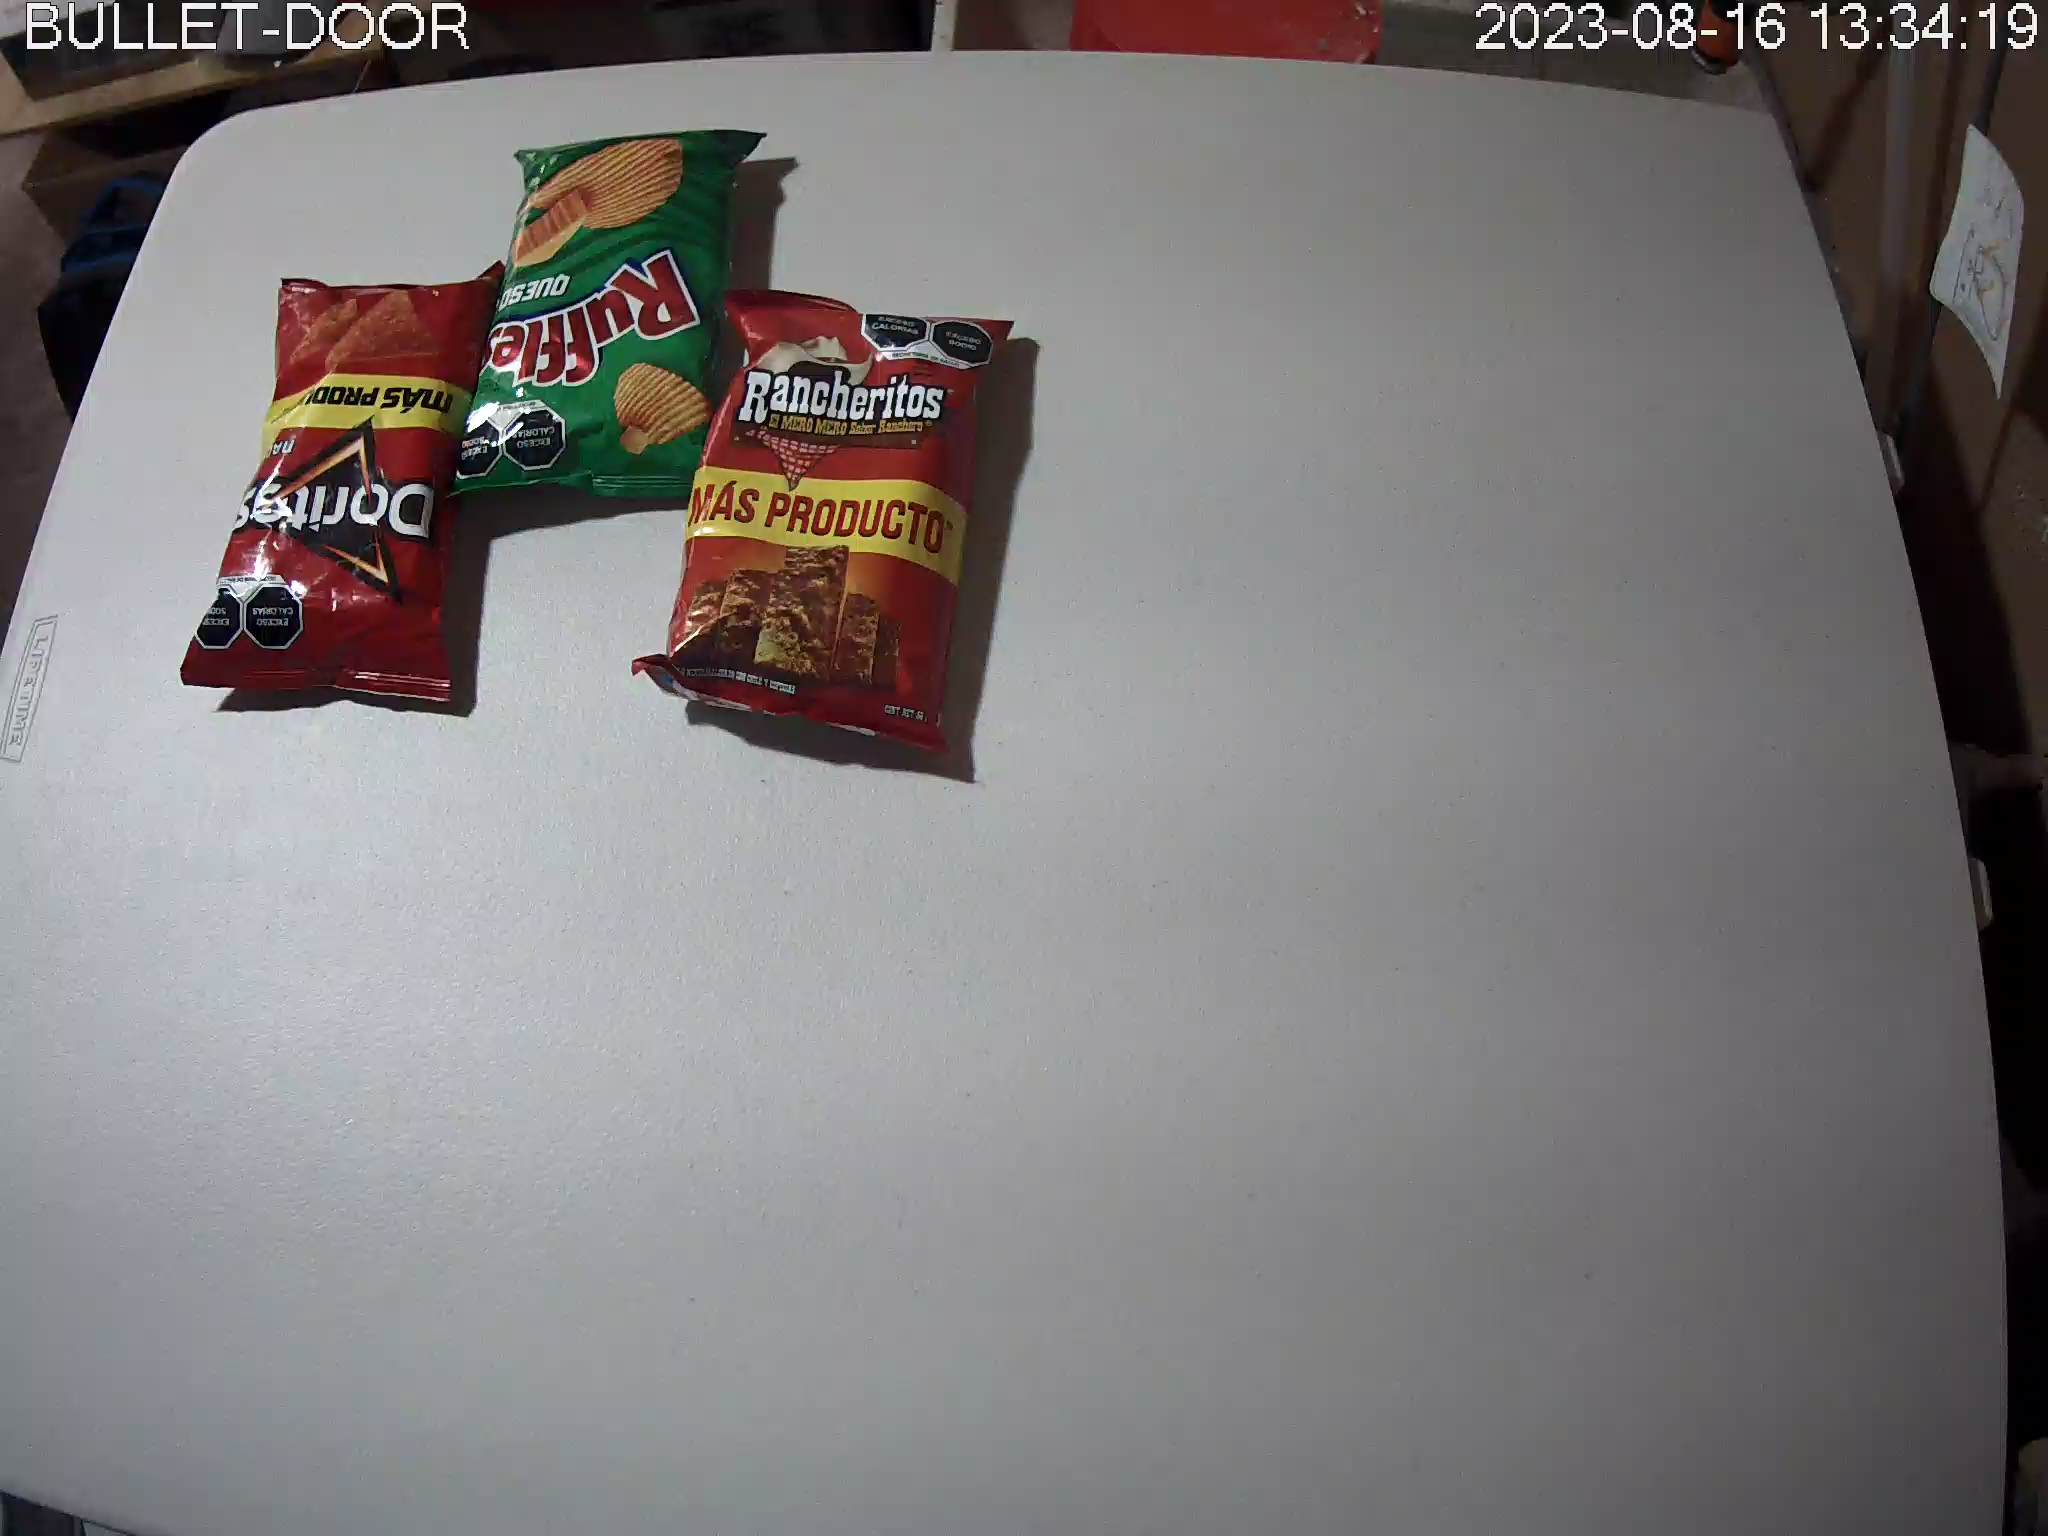DoritosN_61_F: (179, 260, 510, 708)
Rancheritos_58_F: (631, 286, 1018, 766)
RufflesQ_48_F: (448, 127, 769, 499)
